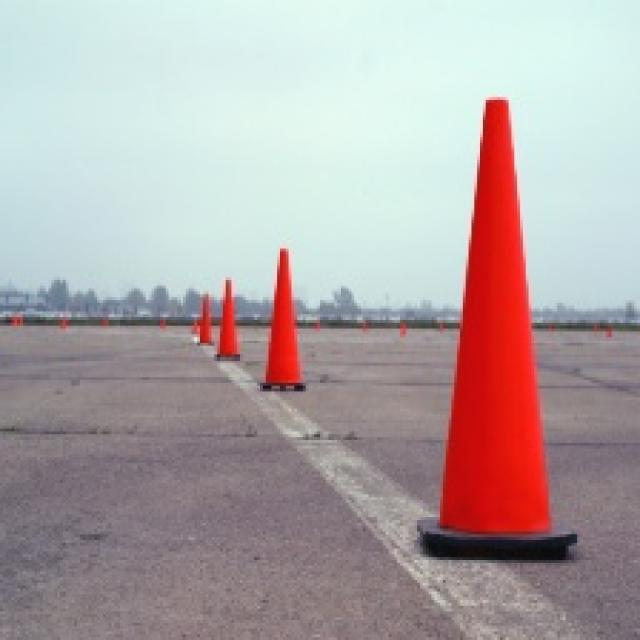traffic cone: (415, 97, 579, 561), (258, 248, 307, 393), (215, 277, 241, 362), (197, 295, 215, 347), (399, 321, 408, 338), (159, 318, 167, 331)
